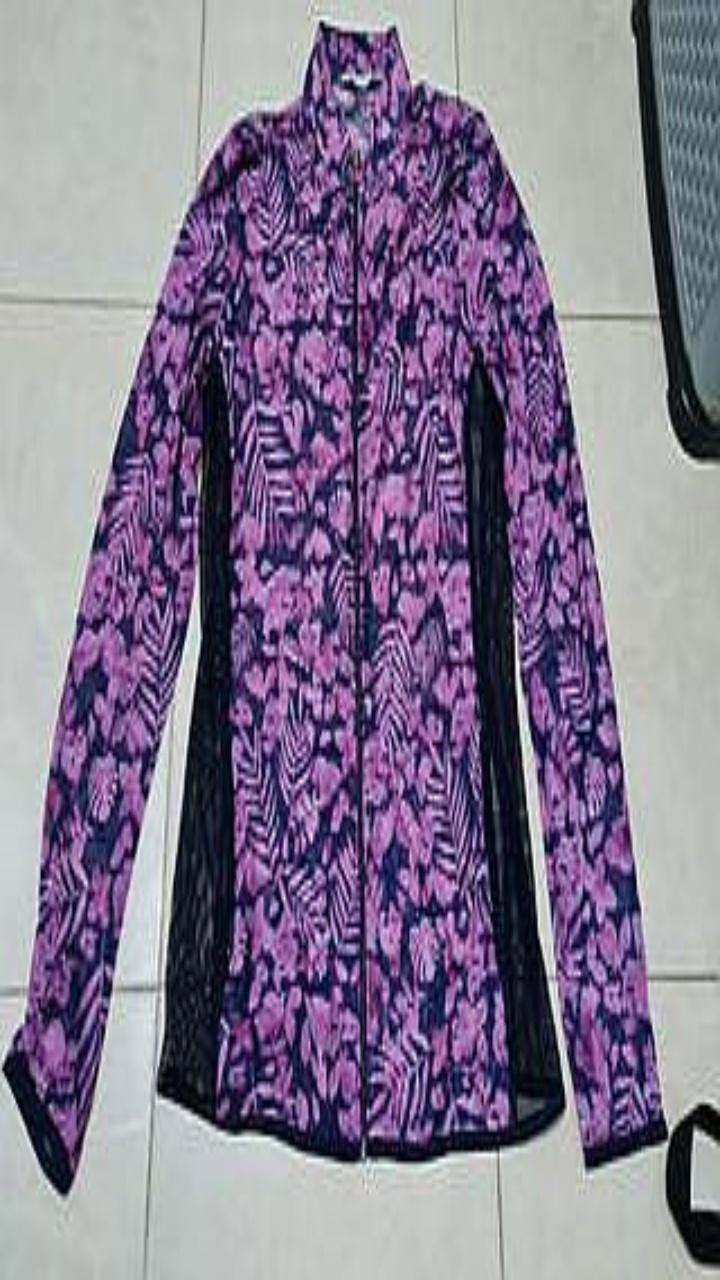Sports_Jacket: (3, 21, 666, 1193)
